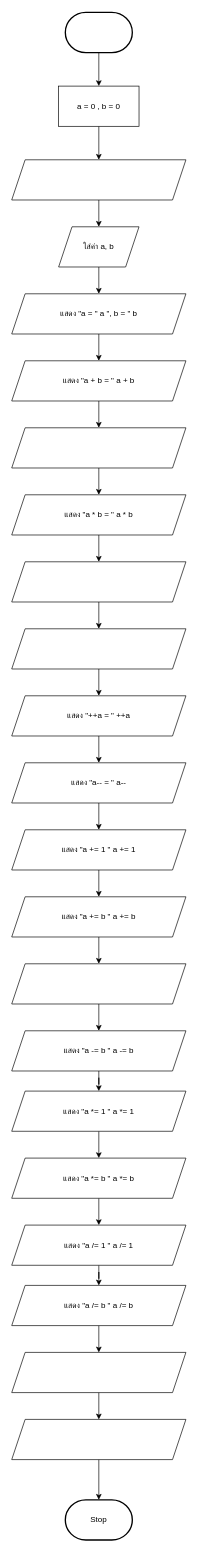
Image size: 198x1552. Some labels were removed from this diagram. Here are the shapes that lost their labels. From the top down, the centre of each, then its label:
point 98,32: Start
point 98,179: แสดงคำว่า "Please enter value (a b) : "
point 98,447: แสดง "a - b = " a - b
point 98,581: แสดง "a / b (b must greater than 0) = " a / b
point 98,648: แสดง "a % b = " a % b
point 98,983: แสดง "a -= 1 " a -= 1
point 98,1372: แสดง "a && b " a && b
point 98,1439: แสดง "a || b " a || b
